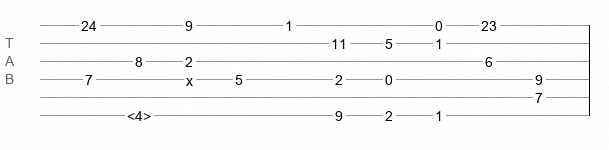0: (385, 72, 393, 82), (435, 18, 443, 28)
1: (285, 18, 293, 28), (435, 108, 443, 118), (435, 36, 443, 46)
11: (331, 36, 347, 46)
2: (185, 54, 193, 64), (335, 72, 343, 82), (385, 108, 393, 118)
23: (481, 18, 497, 28)
24: (81, 18, 97, 28)
5: (235, 72, 243, 82), (385, 36, 393, 46)
6: (485, 54, 493, 64)
7: (85, 72, 93, 82), (535, 90, 543, 100)
8: (135, 54, 143, 64)
9: (185, 18, 193, 28), (335, 108, 343, 118), (535, 72, 543, 82)
harmonic: (127, 108, 151, 118)
x: (186, 73, 193, 81)
